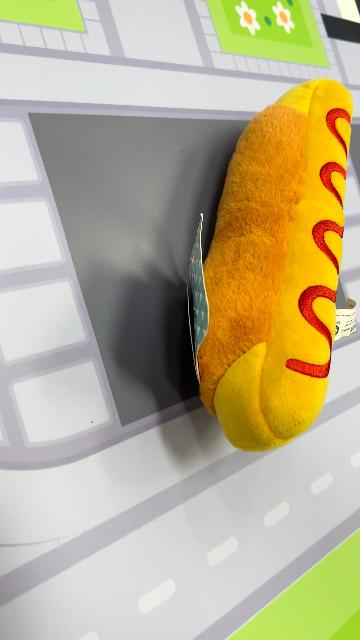hotdog: (192, 76, 354, 454)
